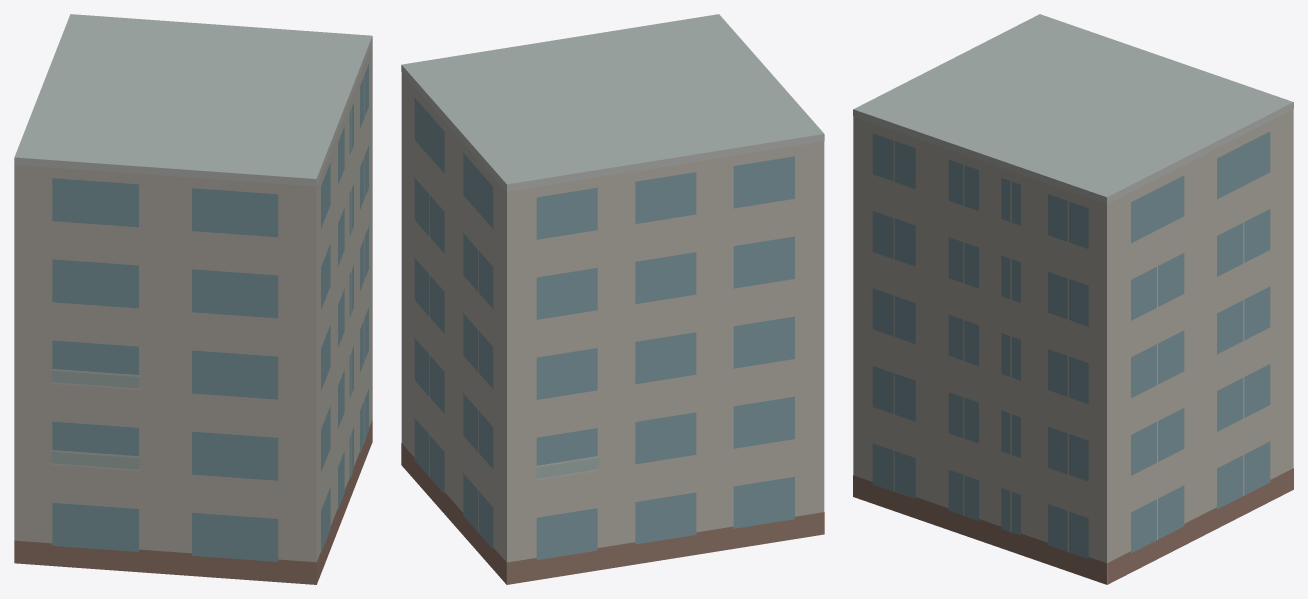
The model's file is survey-upis-32616174.glb.
3 renders of one model, left to right at view 1: azimuth 30°, elevation 25°; view 2: azimuth 150°, elevation 25°; view 3: azimuth 270°, elevation 25°, orthographic. The views are drawn at different scales.
Visible parts, largest first — view 1: survey-upis-32616174.tmp; view 2: survey-upis-32616174.tmp; view 3: survey-upis-32616174.tmp.
Part boxes in pixels (<box>): survey-upis-32616174.tmp: <box>14,14,372,584</box>; survey-upis-32616174.tmp: <box>401,14,824,584</box>; survey-upis-32616174.tmp: <box>853,14,1293,584</box>.
Size of the model in its own units: 13.5 by 13.3 by 13.71.
